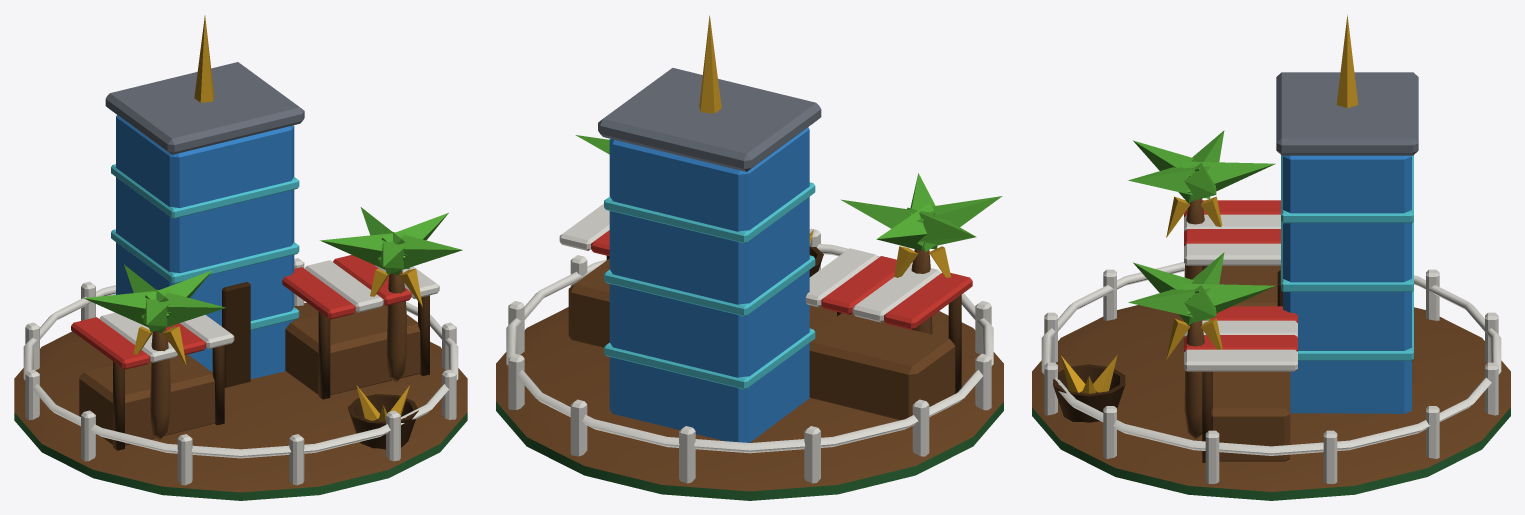
The picture shows the model from 3 angles, left to right: view 1: azimuth 30°, elevation 25°; view 2: azimuth 150°, elevation 25°; view 3: azimuth 270°, elevation 25°; orthographic projection. The views are drawn at different scales.
Parts seen in each view (by area): view 1: fazenda_0_base, fazenda_1_torreta; view 2: fazenda_0_base, fazenda_1_torreta; view 3: fazenda_0_base, fazenda_1_torreta.
Part boxes in pixels (<box>): fazenda_0_base: <box>14,15,467,500</box>; fazenda_1_torreta: <box>83,207,462,441</box>; fazenda_0_base: <box>496,15,1003,500</box>; fazenda_1_torreta: <box>575,135,1002,334</box>; fazenda_0_base: <box>1032,14,1510,500</box>; fazenda_1_torreta: <box>1128,130,1275,440</box>.
Size of the model in its own units: 1.28 by 1.12 by 1.26.
